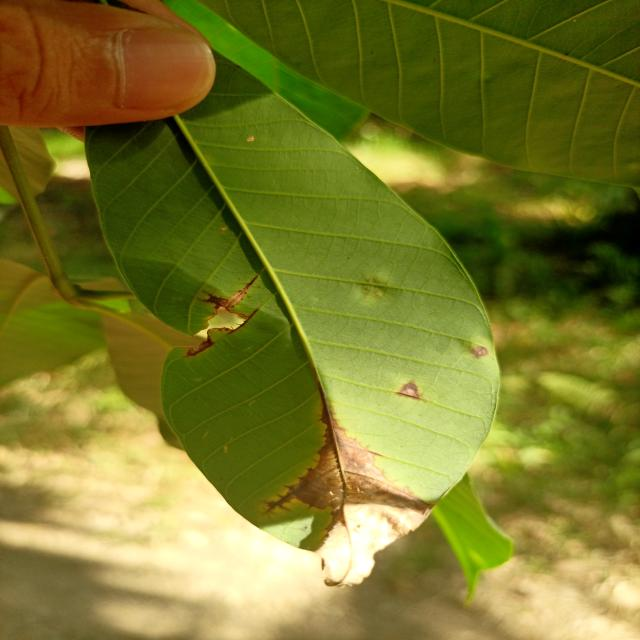Corynespora: (196, 276, 258, 309), (260, 484, 296, 516), (227, 310, 259, 335)
Leaf-Blight: (295, 422, 434, 588)
